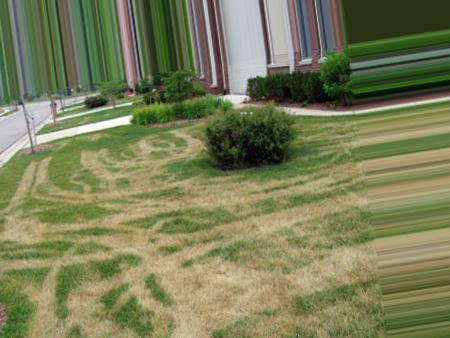patch: (163, 248, 261, 336), (117, 200, 212, 247), (234, 190, 305, 227), (10, 222, 65, 252), (95, 158, 147, 188)
